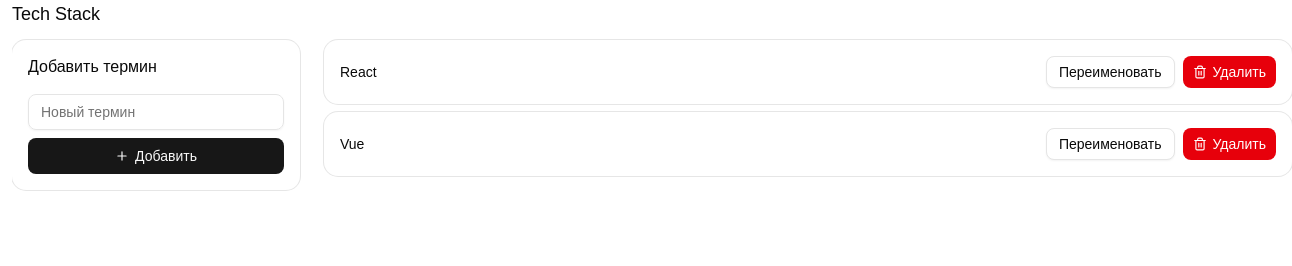
Test: TaxonomyEditor add term staging › stages a new term without saving immediately (the reported bug)
expect the text "React" is shown: met, box [340,62,377,82]
Step 1. Type "Test" into the field with placeholder "Новый термин" → point(156, 112), box [28,94,284,130]
Then press Enter
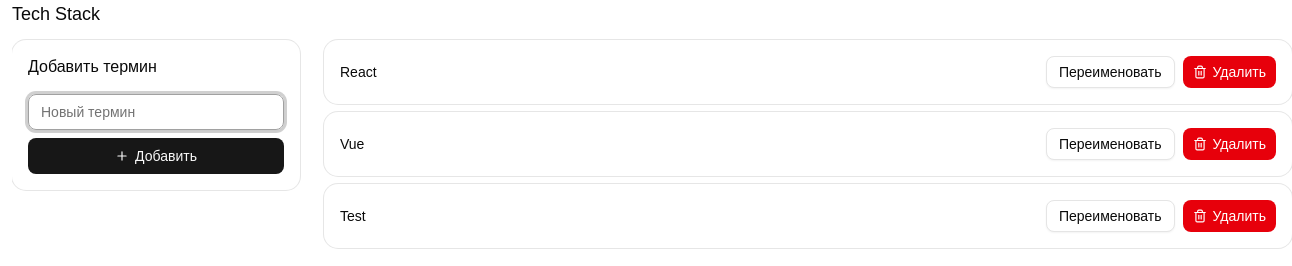
expect the text "Test" is shown: met, box [340,206,366,226]
